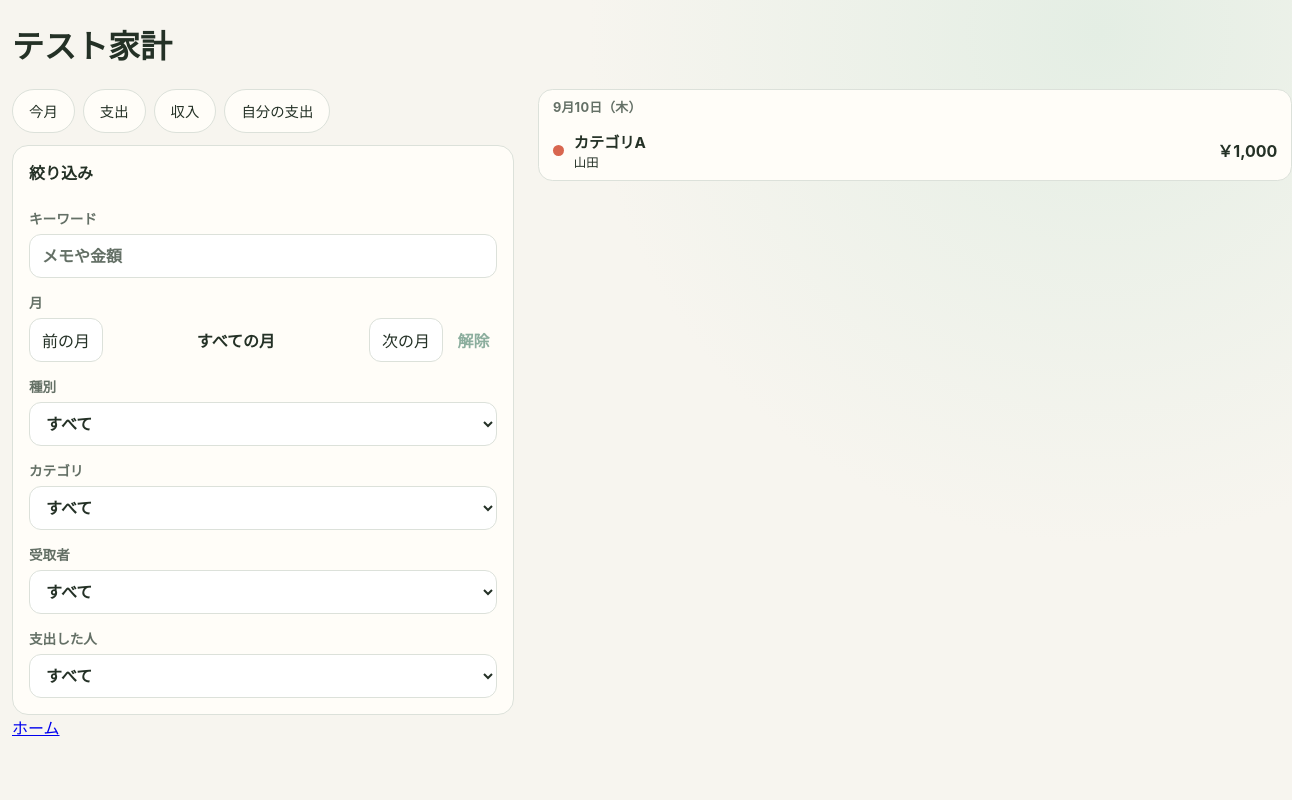
Test: HistoryView のURL同期と失敗時の表示 (HIS-008) › 取得に失敗しても表示済みの行と適用中条件を消さず、再試行できる (AC-HIS-008-3)
The image size is (1292, 800).
Click the link "支出". click: (114, 111)
box: [83,89,146,133]
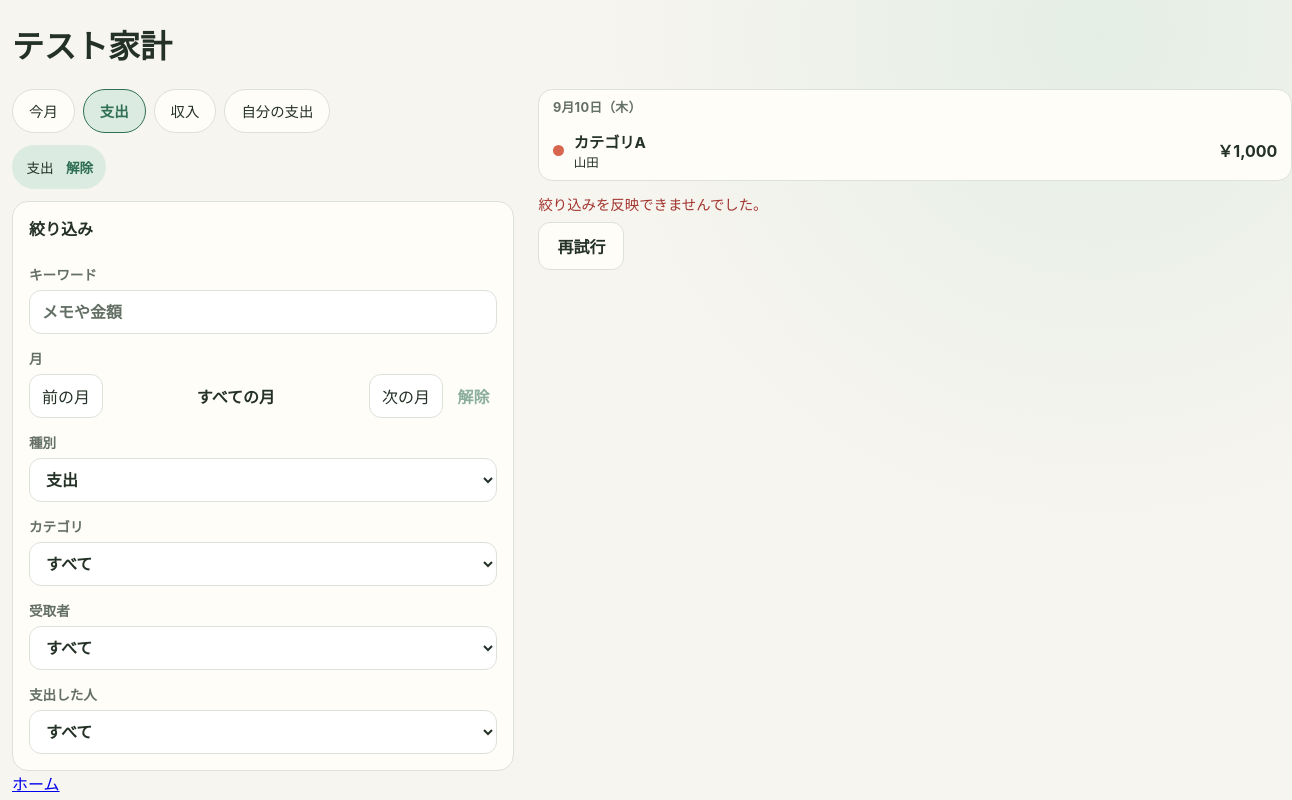
expect the text "カテゴリA" is shown: met, box [574,130,646,152]
expect the message "絞り込みを反映できませんでした。" is shown: met, box [538,193,768,214]
Click the button "再試行". click: (581, 246)
box: [538,222,624,270]
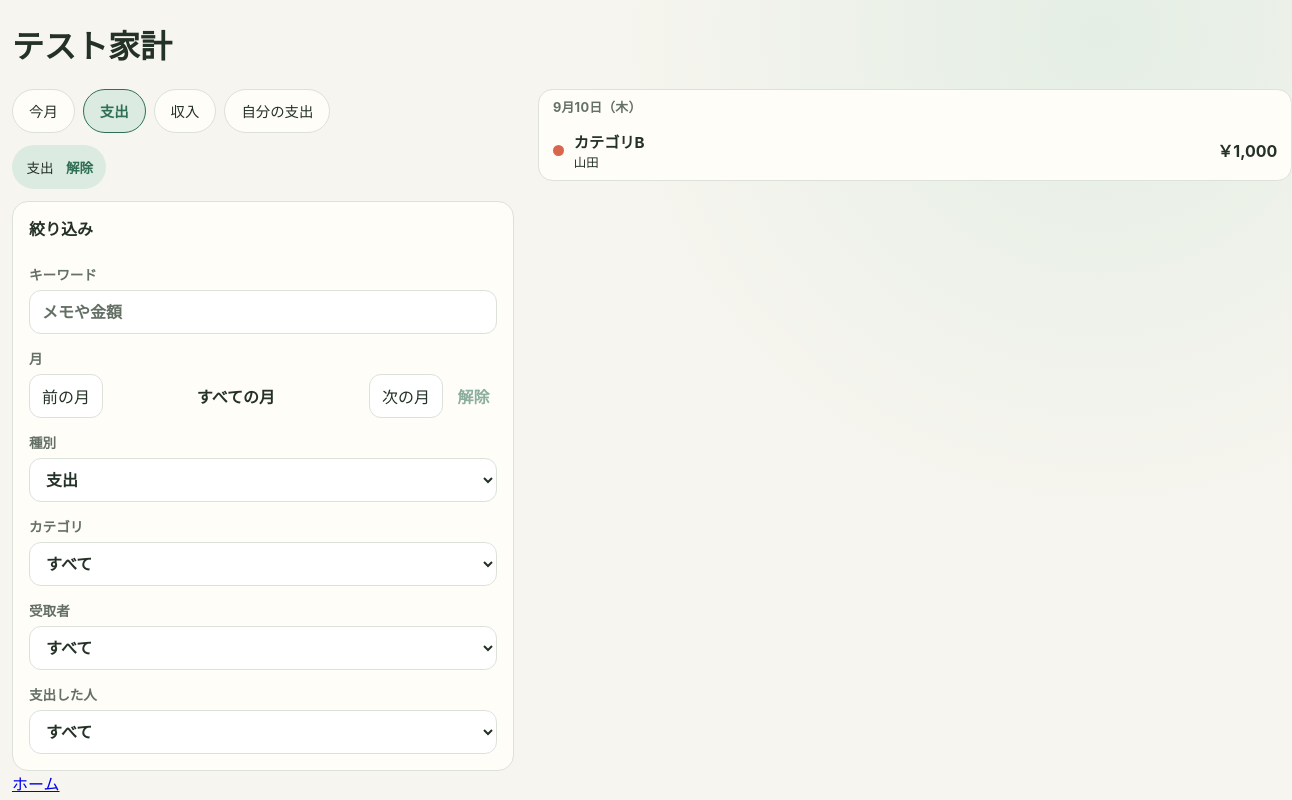
expect the text "カテゴリB" is shown: met, box [574,130,645,152]
expect the message "絞り込みを反映できませんでした。" is gone: met
